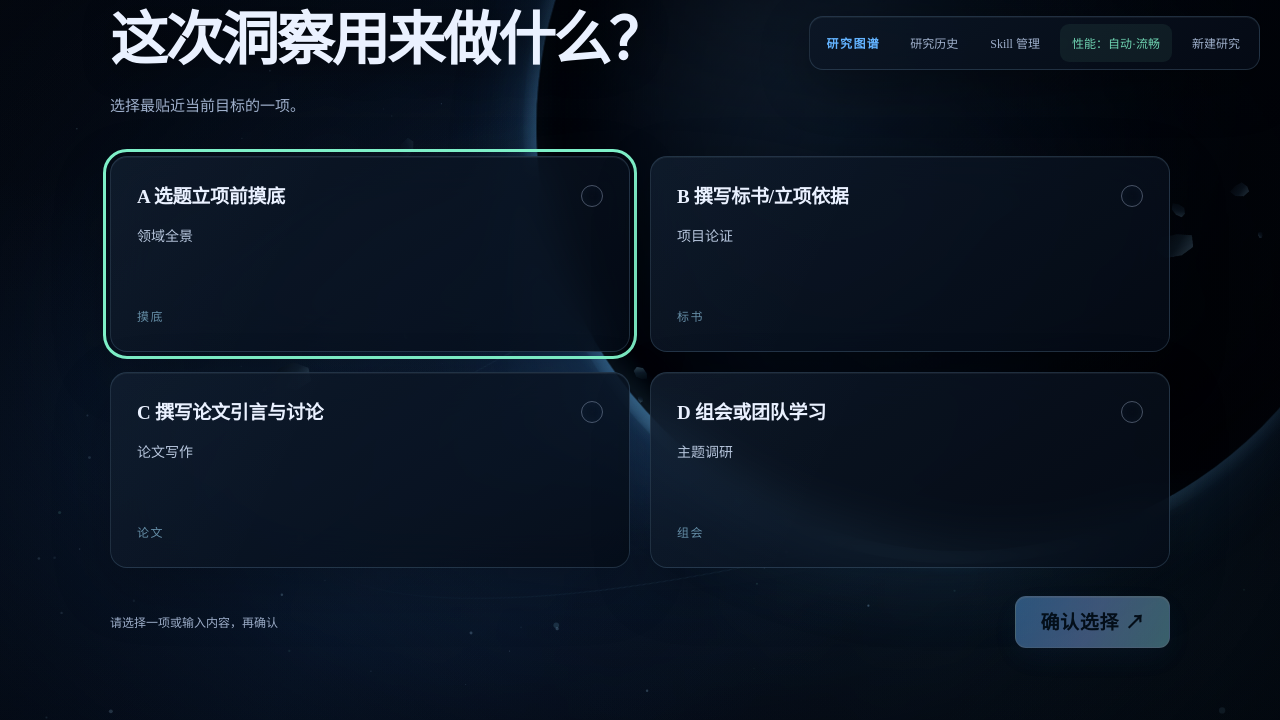
moves from a real public-session response to keyboard-operable mode confirmation
The image size is (1280, 720).
Earlier steps of the test are not shown.
(page scrolled)
Expected: the heading "这次洞察用来做什么？" is shown, [110,8,664,73]
Expected: the button "A 选题立项前摸底 领域全景 摸底" is shown, [110,156,630,352]
Type keys " "
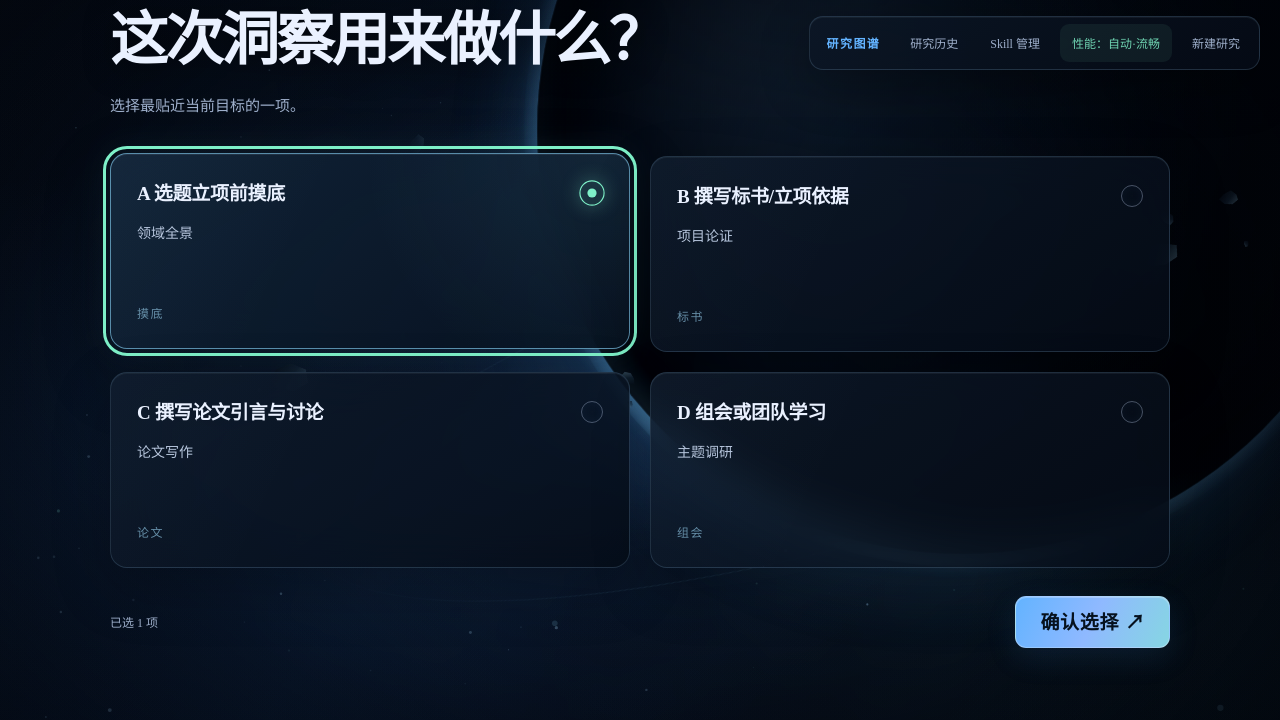
Result: the button "A 选题立项前摸底 领域全景 摸底" is pressed at [110,153,630,349]
Click the button "确认选择 ↗": (1093, 622) [1015,596,1170,648]
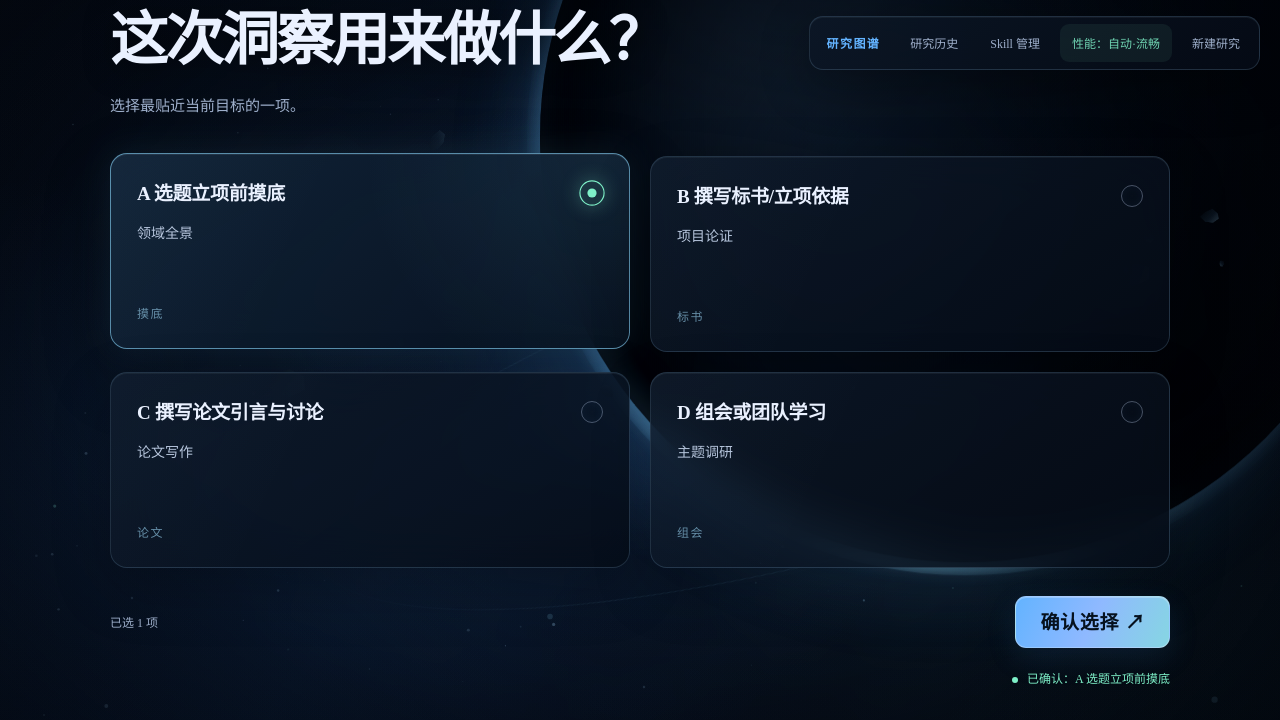
Result: the message reads "已确认：A 选题立项前摸底" at [1012,670,1170,689]
